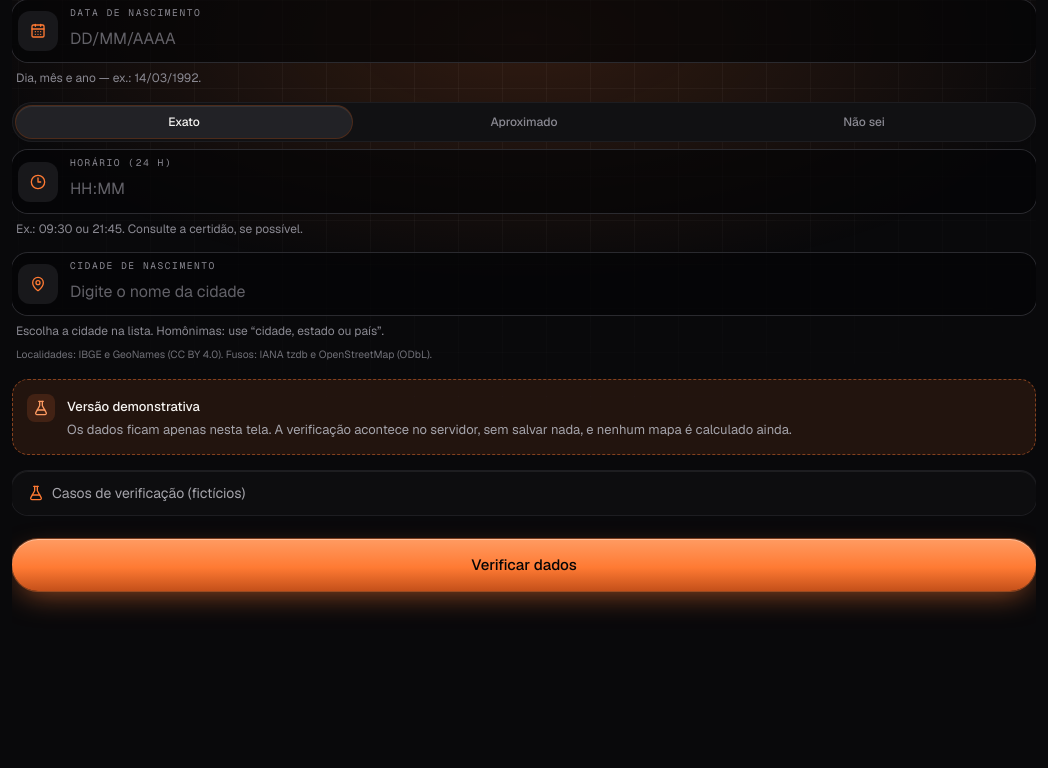
Test: BirthDataForm › horário desconhecido dispensa o campo de hora
Later steps or results of the test are not shown.
Click the radio button labelled "Não sei" at point(864, 122), box [843,114,885,130]
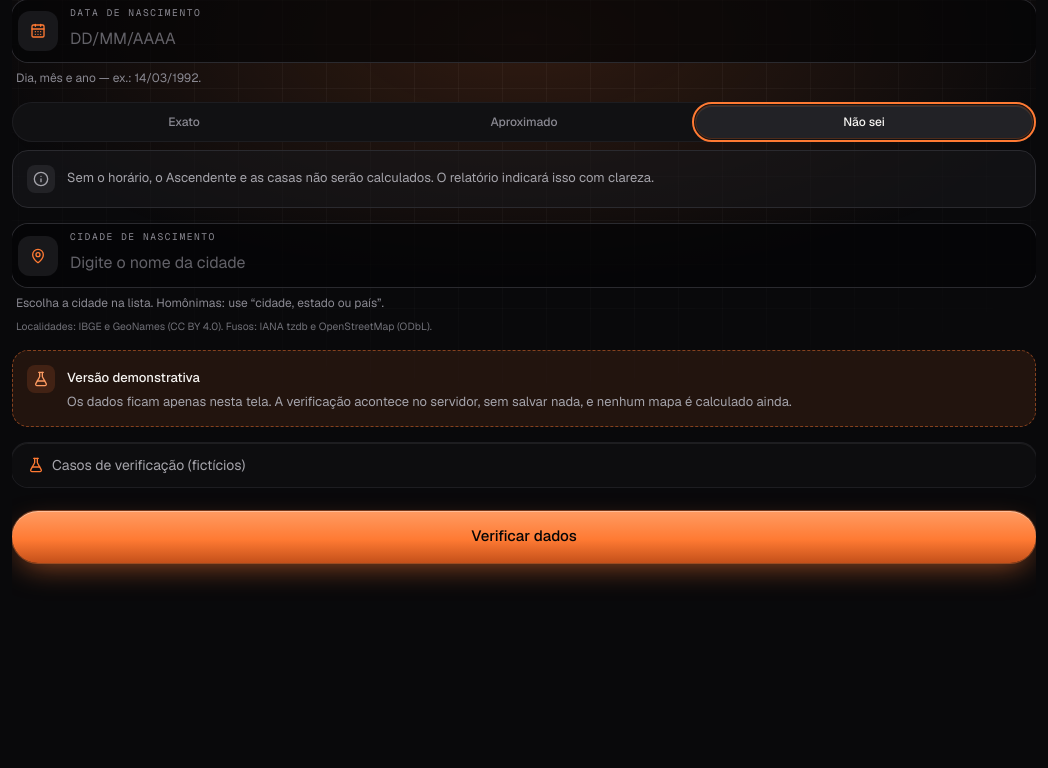
Result: the label labelled "Horário (24 h)" is gone
